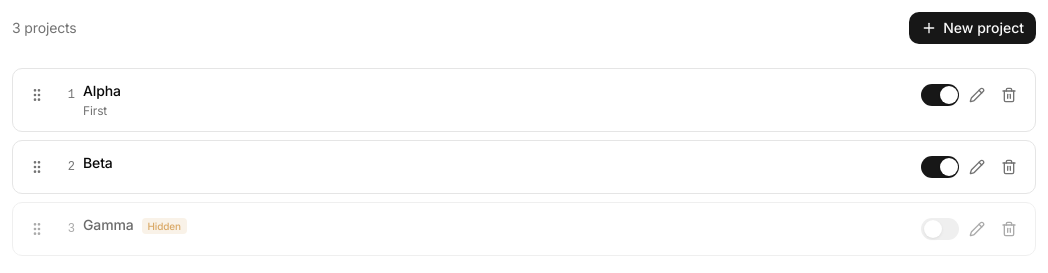
Test: visibility toggle › is a switch, and updates optimistically without a toast
This screenshot has width=1048, height=273.
Click the switch named "Hide Alpha". click: [940, 95]
box: [921, 84, 959, 106]
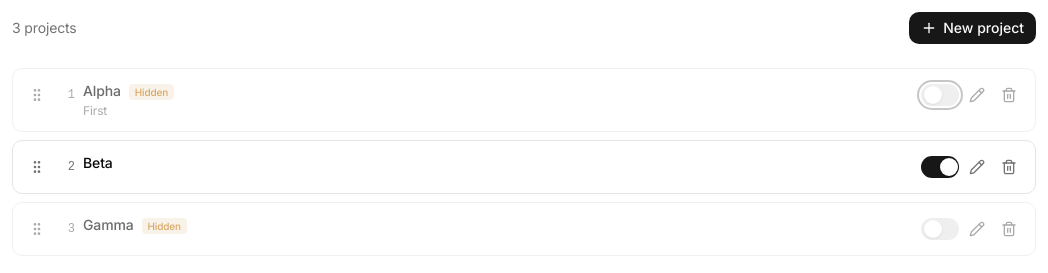
Now the switch named "Show Alpha" is shown, box [921, 84, 959, 106]
